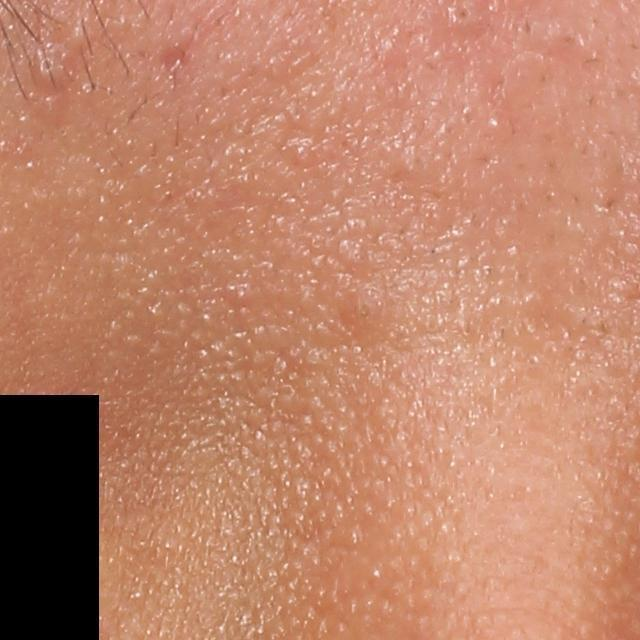comedo: (27, 47, 68, 94), (349, 290, 384, 332), (451, 0, 477, 26)
